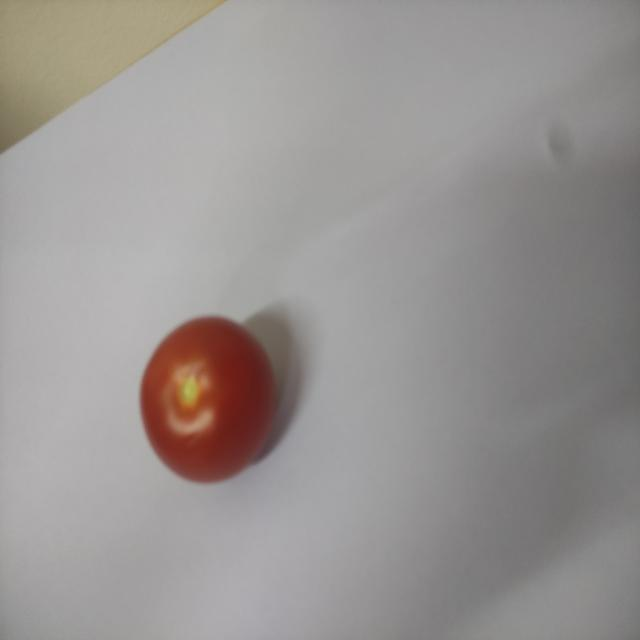kirmizi: (129, 300, 295, 487)
